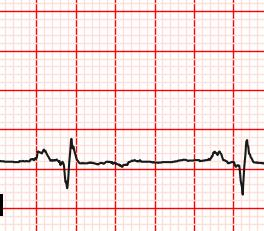Pathological Q Wave: (233, 161, 252, 199), (59, 157, 74, 192)
Poor R Progression: (242, 136, 255, 169), (67, 135, 79, 167)
